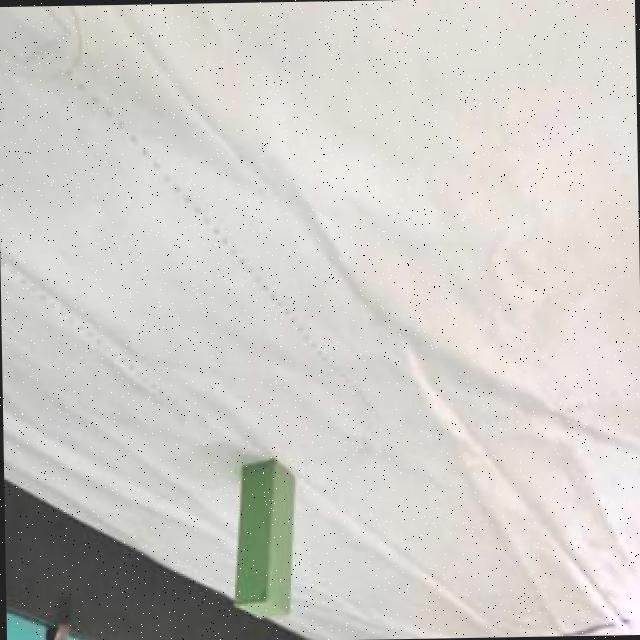greenbox: (228, 455, 300, 621)
